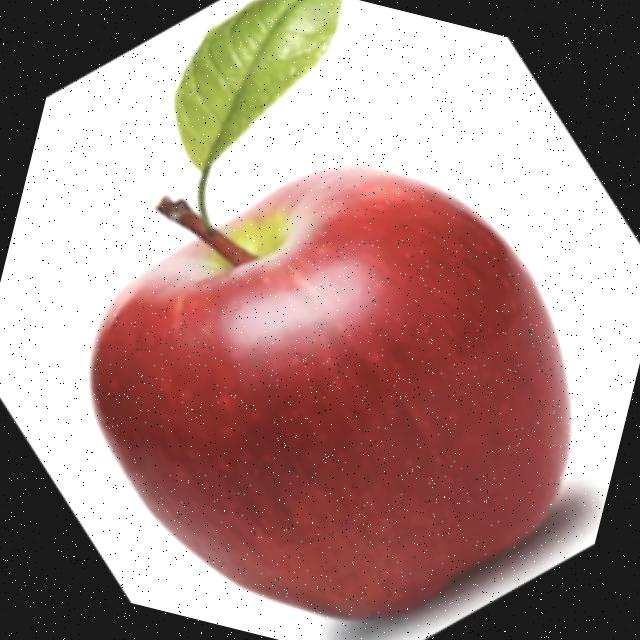Ripe: (35, 107, 636, 640)
